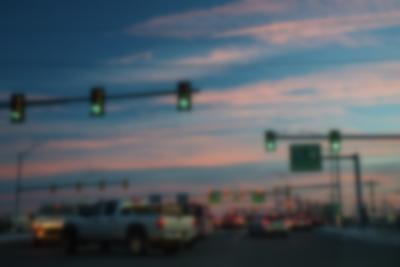International Road Signal Light: (10, 93, 25, 123), (176, 83, 192, 111), (90, 88, 105, 117), (328, 130, 341, 153), (265, 130, 276, 151)
